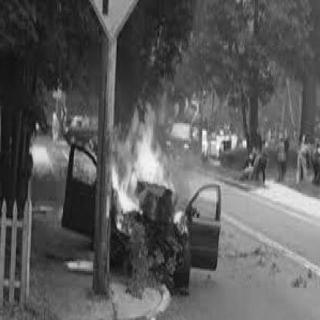Fire: (106, 98, 196, 222)
